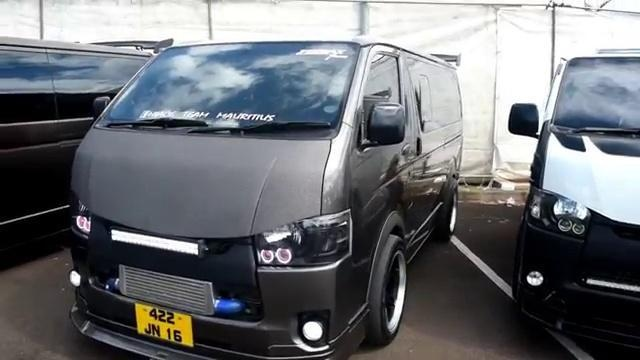van: (63, 35, 468, 353)
